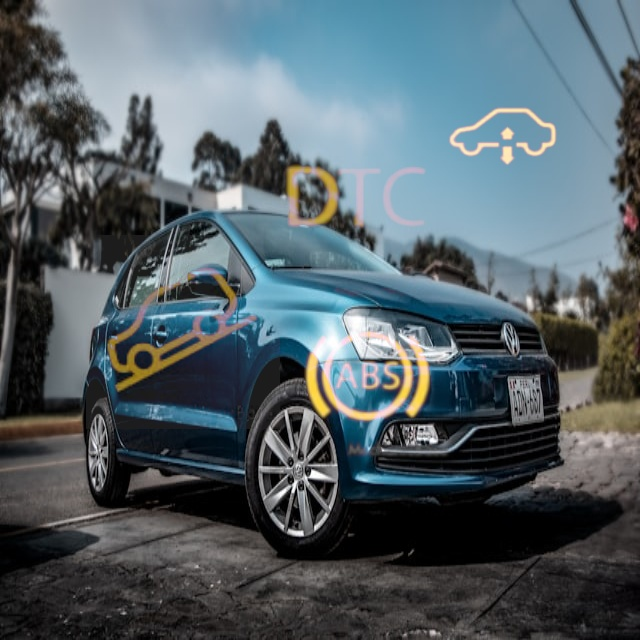symbol: (248, 90, 466, 308), (86, 235, 280, 429), (280, 290, 454, 464), (431, 67, 574, 210)
